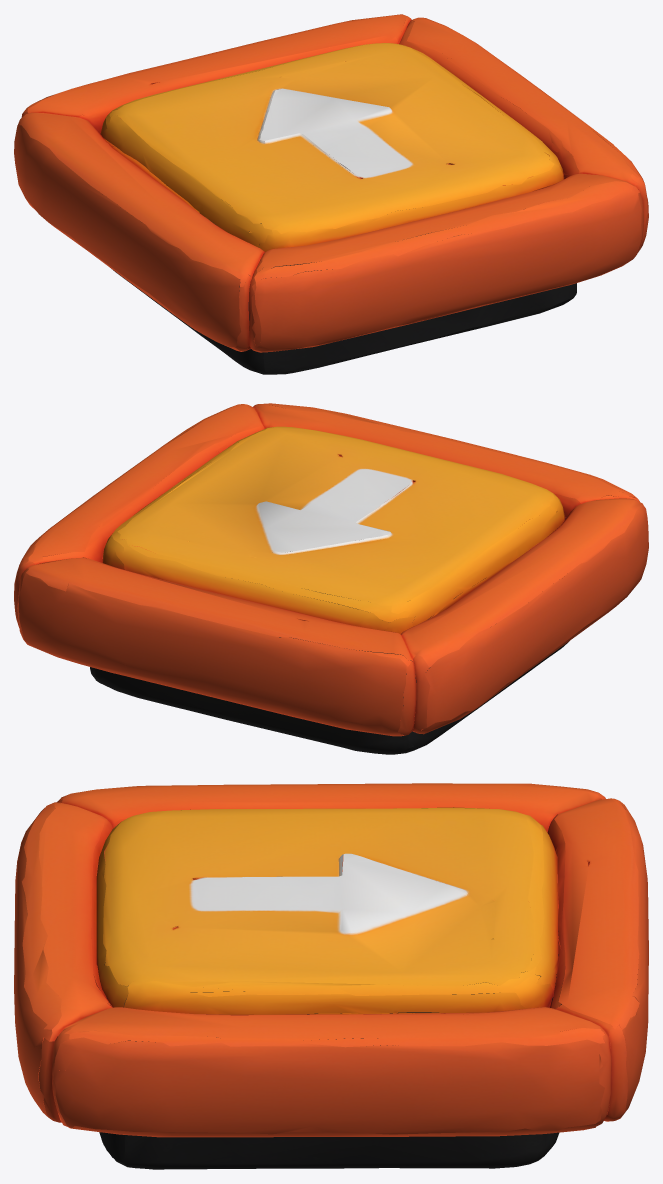
File: PROP_C1_LAUNCHPAD_game.glb
3 renders of one model, top to bottom at view 1: azimuth 30°, elevation 25°; view 2: azimuth 150°, elevation 25°; view 3: azimuth 270°, elevation 25°, orthographic. The views are drawn at different scales.
Parts seen in each view (by area): view 1: PROP_C1_LAUNCHPAD; view 2: PROP_C1_LAUNCHPAD; view 3: PROP_C1_LAUNCHPAD.
Boxes of the visible parts, box(x1,y1,x2,y2) form: PROP_C1_LAUNCHPAD: box(14, 14, 648, 374); PROP_C1_LAUNCHPAD: box(14, 403, 648, 754); PROP_C1_LAUNCHPAD: box(14, 783, 648, 1169).
Bounding box in the file's own units: 1.7 × 0.5502 × 1.7.
1 material, 1 textured.
